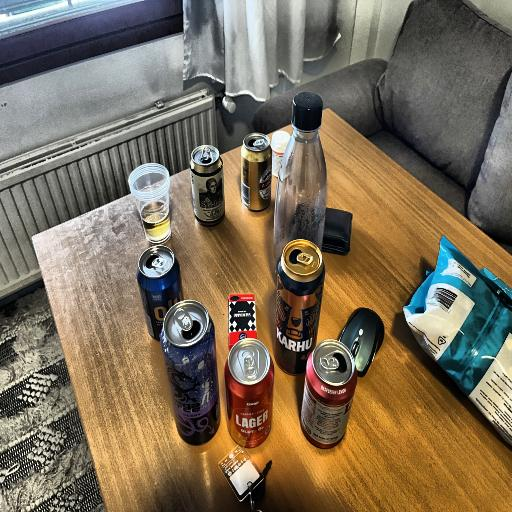A_LeCoq: (238, 130, 278, 214)
coop_larger: (224, 338, 276, 450)
karhu: (274, 236, 323, 368)
koff: (300, 344, 358, 445)
koti: (136, 245, 188, 344)
sandels: (185, 144, 228, 229)
